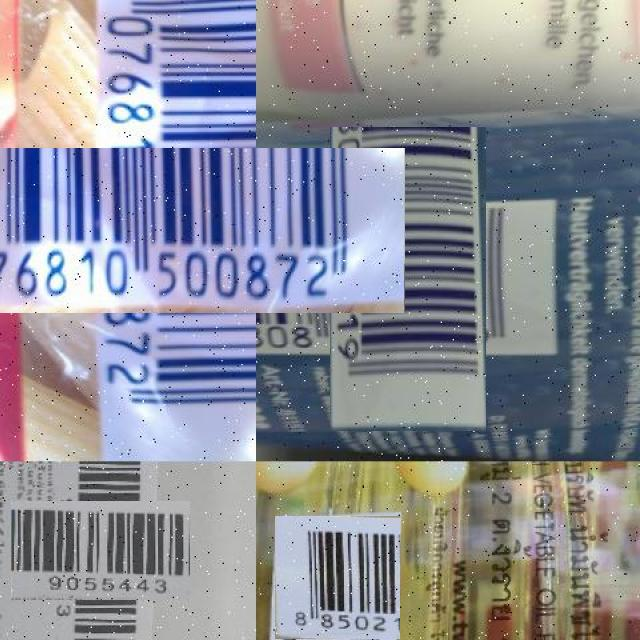Barcode: (17, 74, 331, 388), (293, 163, 523, 394), (31, 481, 170, 620), (275, 515, 399, 640)
